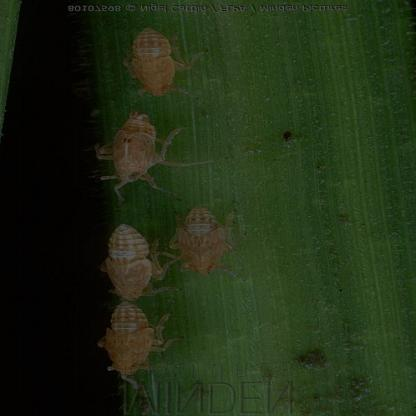brown-planthopper: (100, 112, 172, 190), (166, 206, 244, 278), (121, 25, 194, 98), (95, 302, 164, 375), (94, 223, 160, 299)
